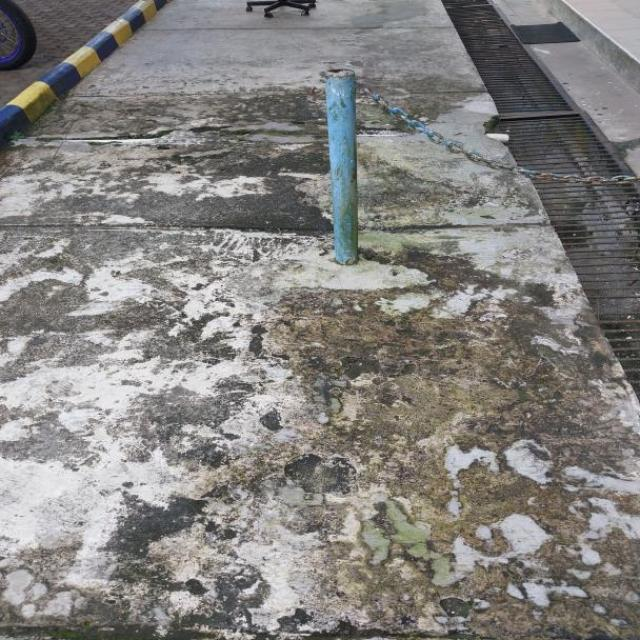barrier ahead at: (316, 58, 380, 270)
